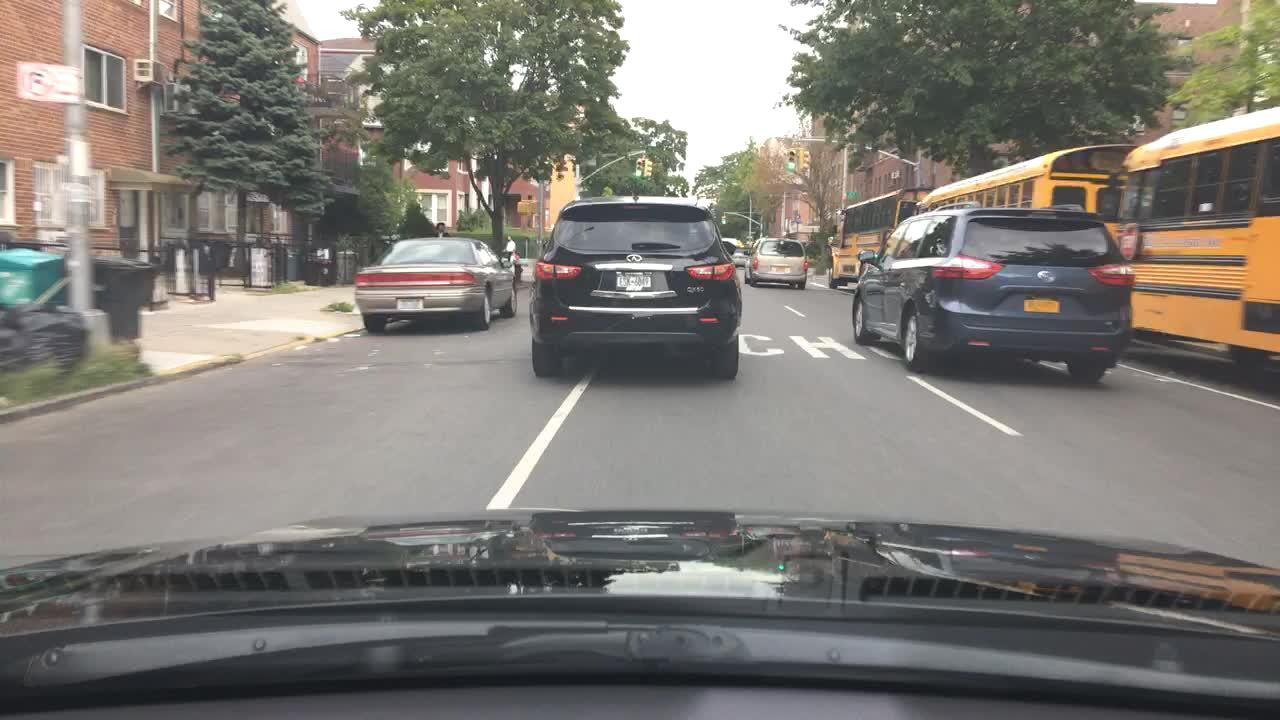Infiniti: (625, 254, 645, 263)
